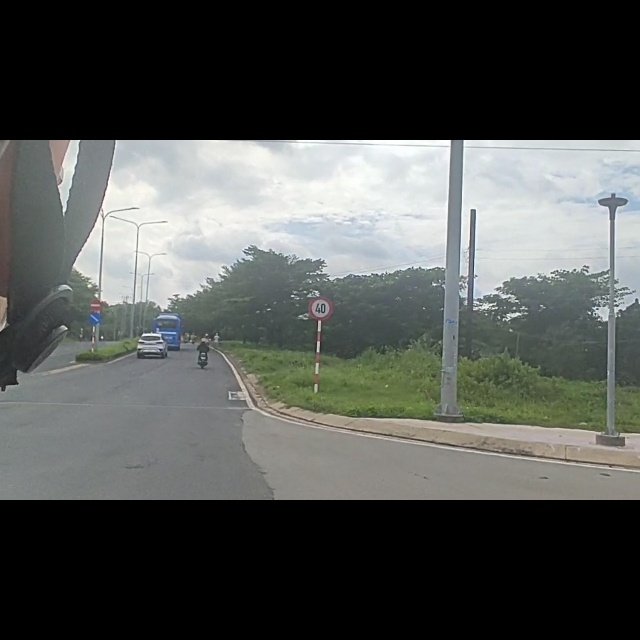bien_hieu_lenh: (307, 276, 335, 320), (86, 303, 101, 329), (89, 282, 101, 302)
